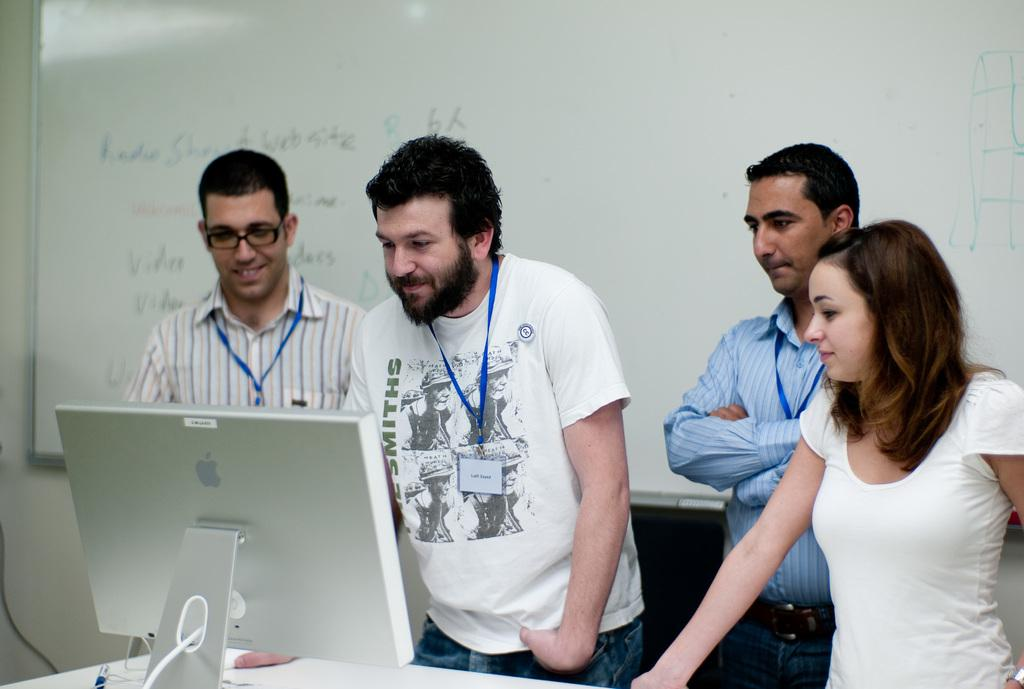Laptop: (54, 401, 414, 677)
